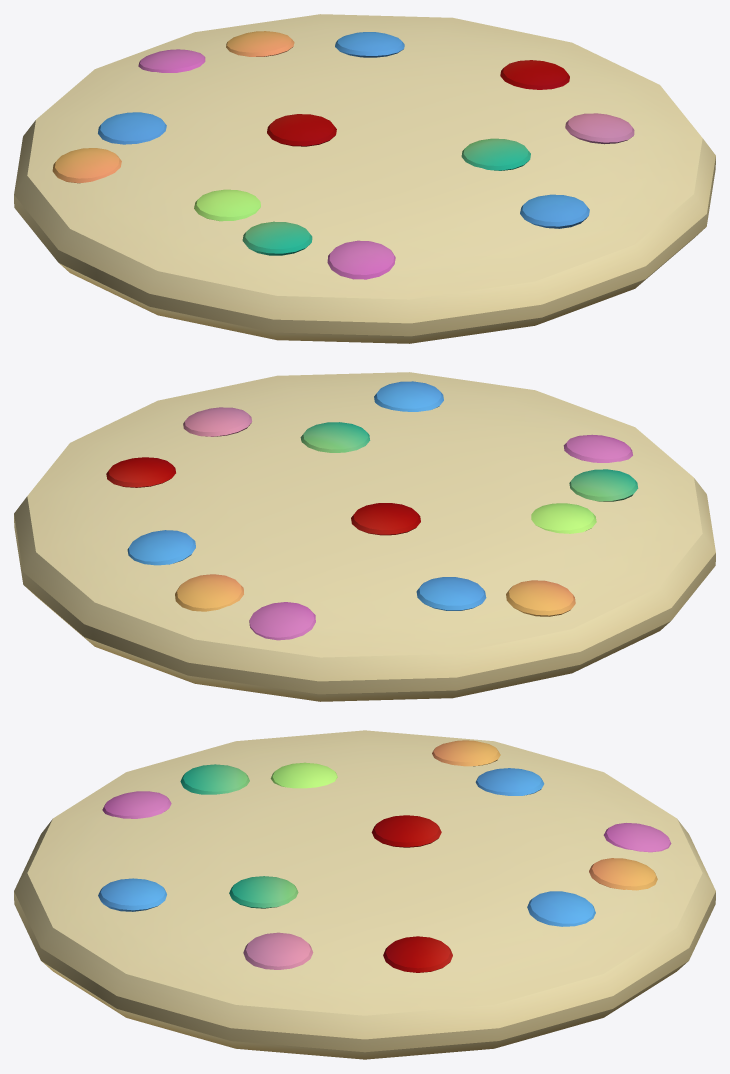
File: W2_PLATFORM_2.fbx
The picture shows the model from 3 angles, top to bottom: view 1: azimuth 30°, elevation 25°; view 2: azimuth 150°, elevation 25°; view 3: azimuth 270°, elevation 25°; orthographic projection.
Visible parts, largest first — view 1: W2_PLATFORM_2; view 2: W2_PLATFORM_2; view 3: W2_PLATFORM_2.
Part boxes in pixels (box(x1,y1,x2,y2)): W2_PLATFORM_2: box(14, 14, 715, 343); W2_PLATFORM_2: box(14, 372, 715, 701); W2_PLATFORM_2: box(14, 730, 715, 1059).
Size of the model in its own units: 945 by 109 by 945.
